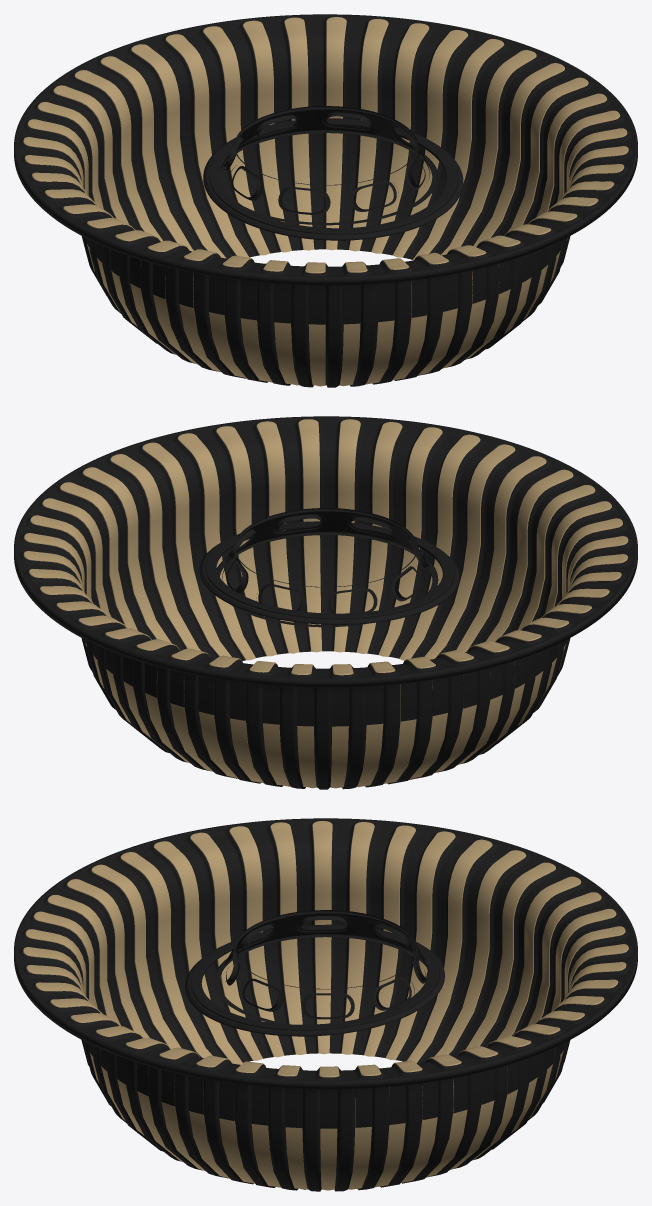
3 views of the same model, one above another, from view 1: azimuth 30°, elevation 25°; view 2: azimuth 150°, elevation 25°; view 3: azimuth 270°, elevation 25° (orthographic).
Parts seen in each view (by area): view 1: Plane.003, Plane.015, Plane.014; view 2: Plane.003, Plane.015, Plane.014; view 3: Plane.003, Plane.015, Plane.014.
Part boxes in pixels (x1,y1,x2,y2): Plane.003: (14,14,637,387); Plane.015: (220,106,437,225); Plane.014: (203,118,463,240); Plane.003: (14,416,637,789); Plane.015: (216,508,438,627); Plane.014: (199,521,459,624); Plane.003: (14,818,637,1191); Plane.015: (214,910,426,1024); Plane.014: (185,924,444,1036).
Bounding box in the file's own units: 3.11 × 0.9601 × 3.11.
